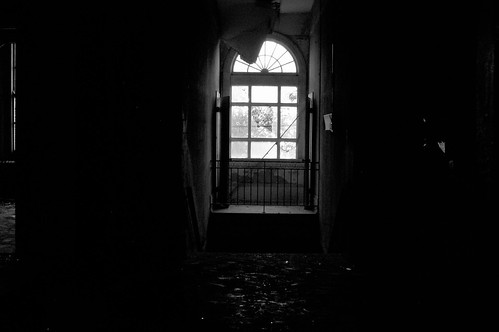window: (222, 33, 313, 163)
